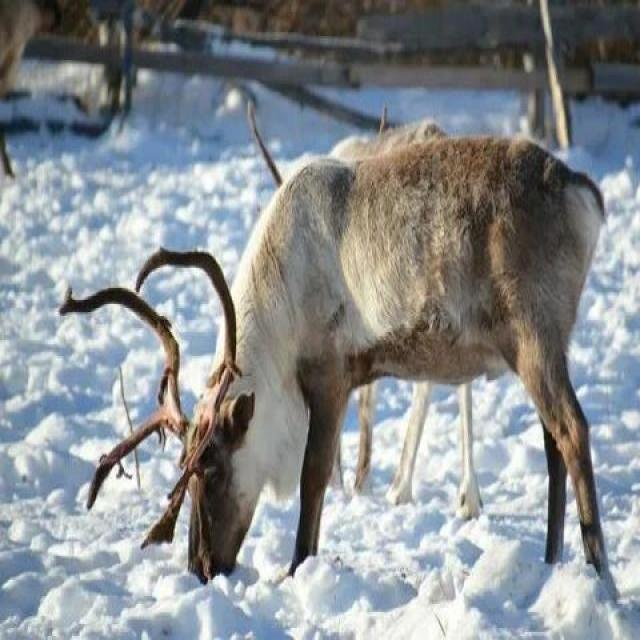deer: (104, 2, 559, 534)
